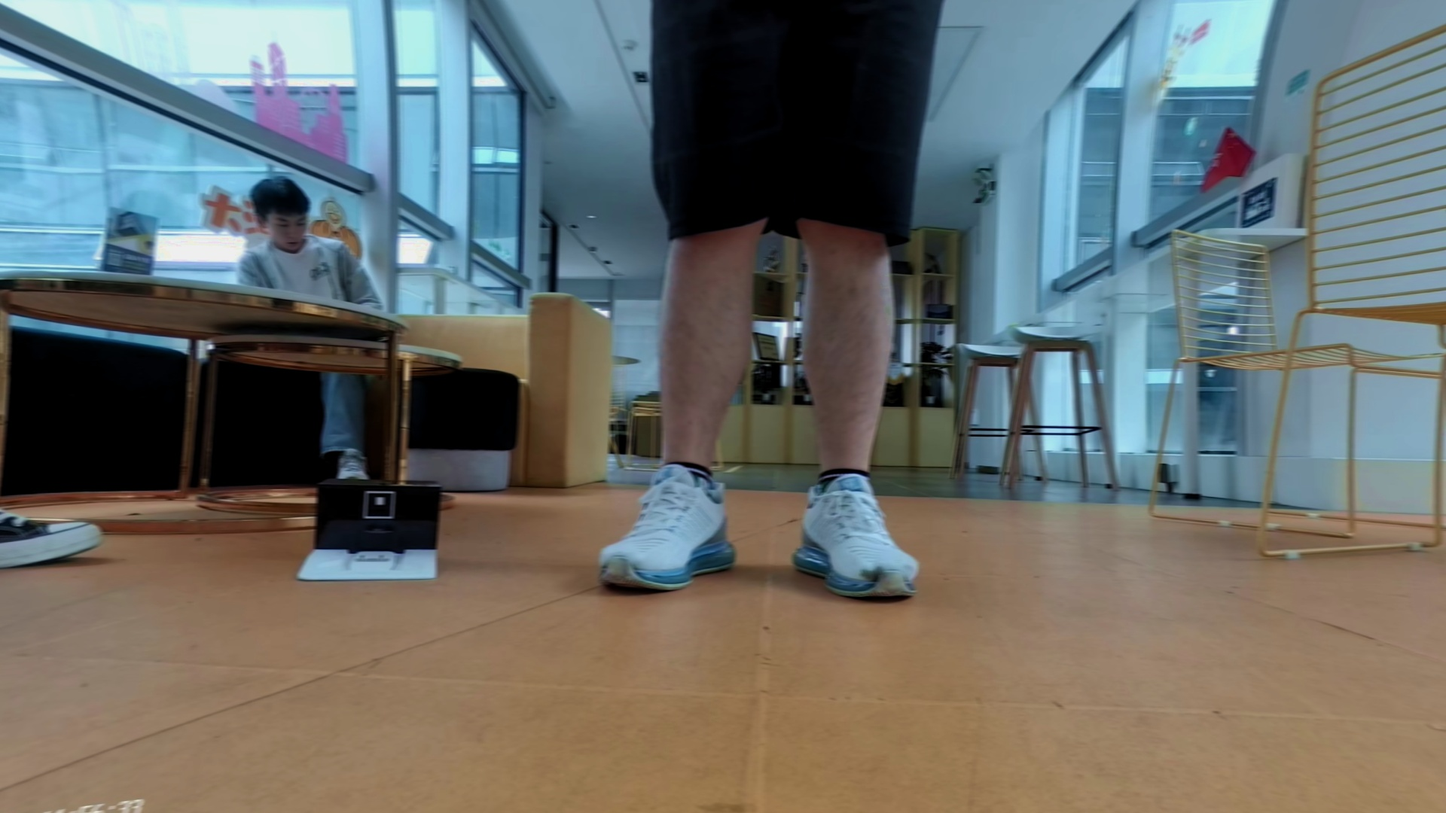face: (262, 198, 309, 248)
person: (589, 0, 953, 597), (222, 169, 419, 480)
